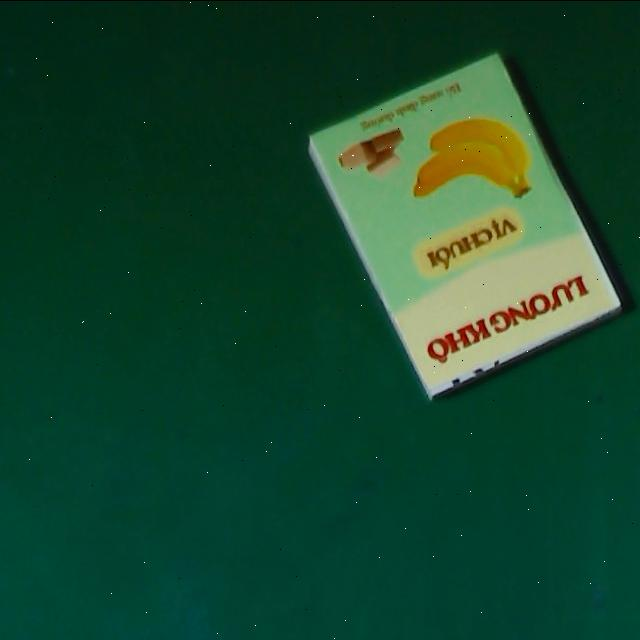chuoi: (302, 42, 628, 402)
